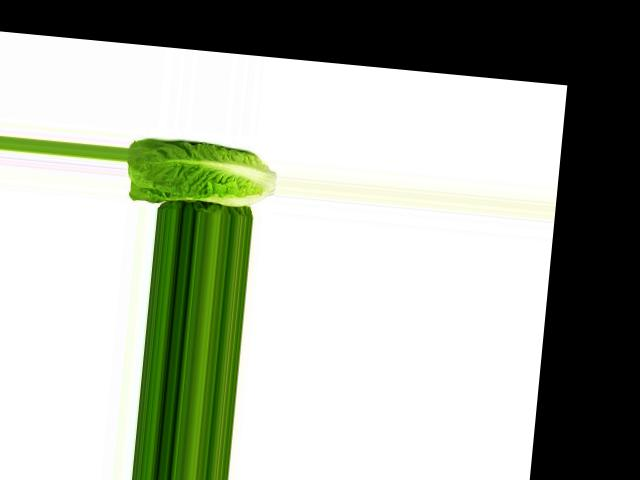lettuce: (122, 125, 279, 211)
